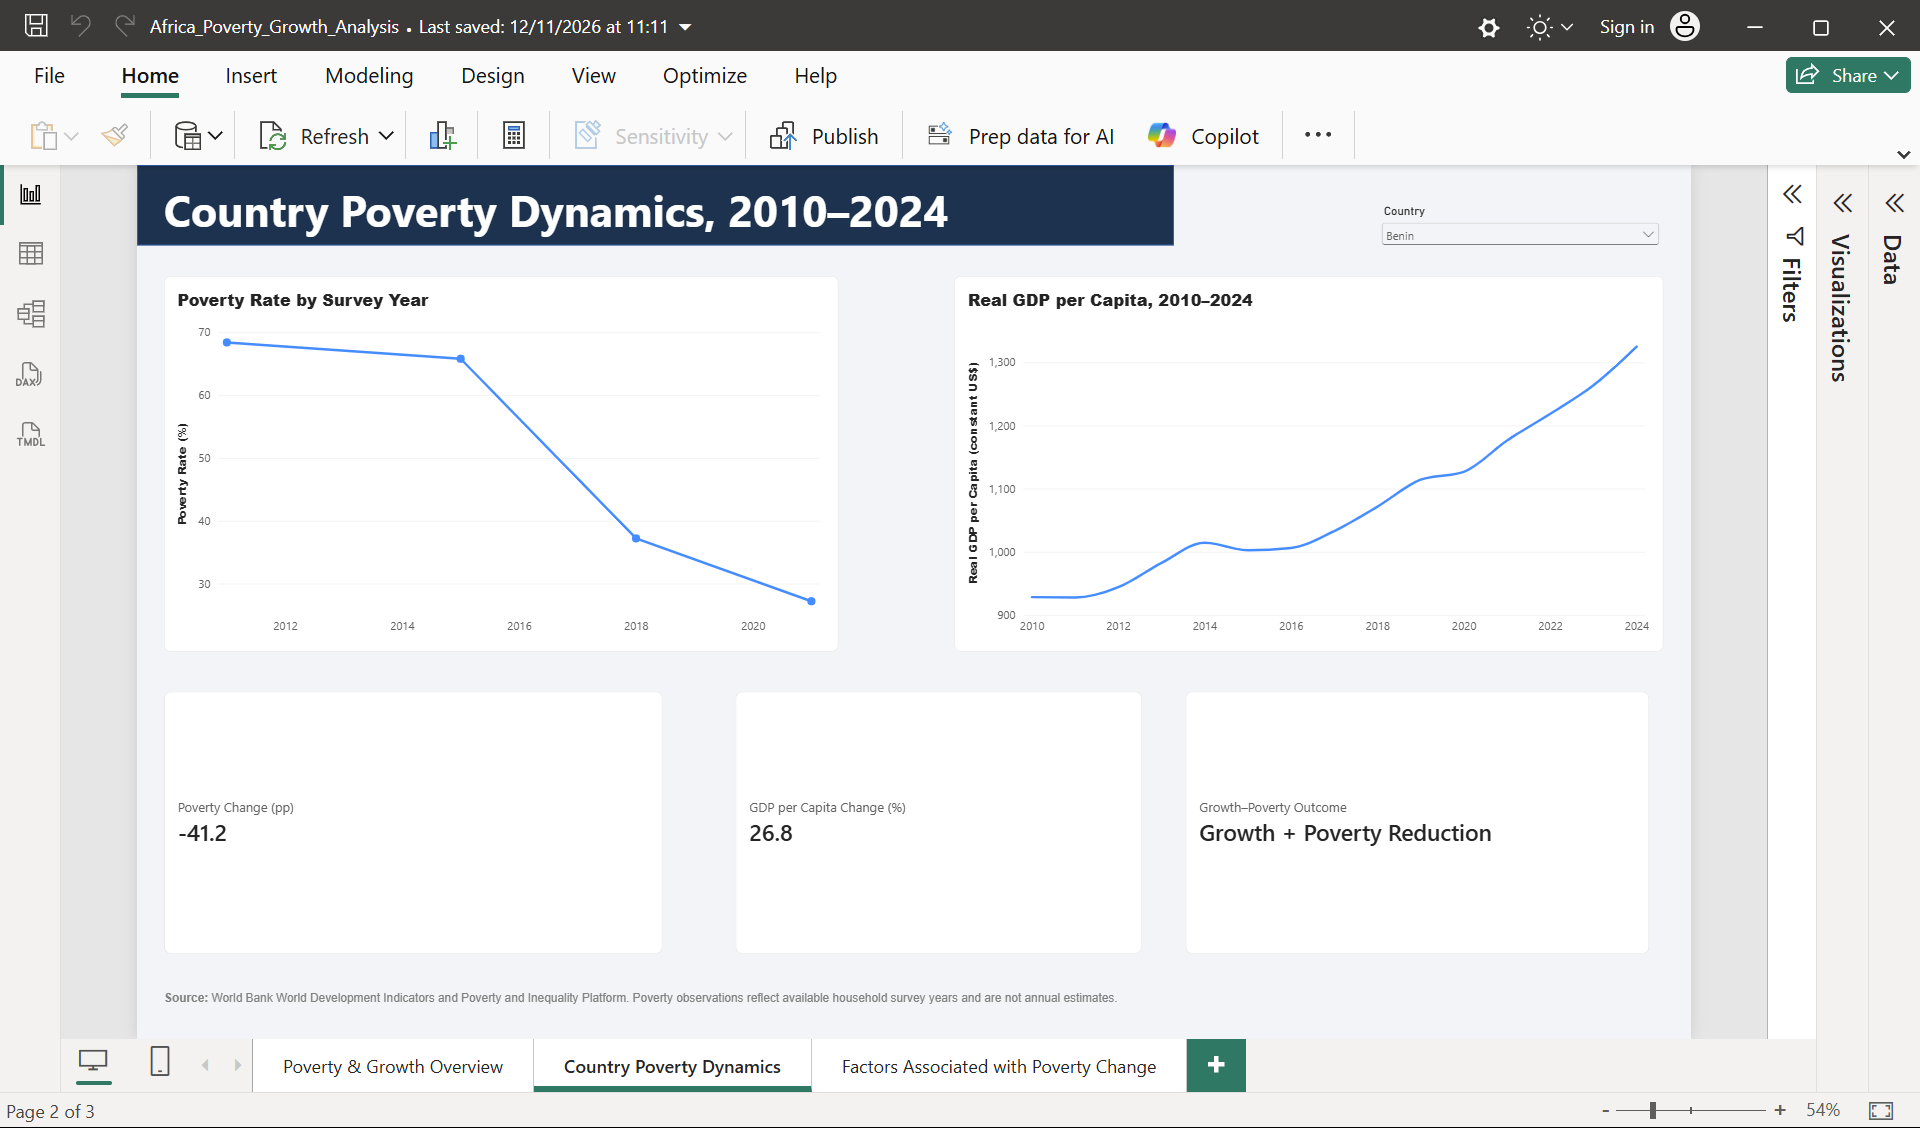

The dashboard page shown, as its layout file describes it:
{"tool":"powerbi","page":{"name":"Country Poverty Dynamics","canvas":[1920,1080],"ordinal":1},"visuals":[{"type":"shape","box":[0,0,1281.4,99.4],"z":0},{"type":"textbox","box":[32.4,0,1210.5,99.4],"z":1000},{"type":"lineChart","title":"Poverty Rate by Survey Year","fields":{"Category":["powerbi_country_year.year"],"Y":["Avg(powerbi_country_year.poverty_rate)"]},"box":[32.4,137.9,833.3,464.3],"z":2000},{"type":"slicer","fields":{"Values":["Country.country"]},"box":[1532.8,48.7,352.8,50.7],"z":3000},{"type":"lineChart","title":"Real GDP per Capita, 2010–2024","fields":{"Category":["powerbi_country_year.year"],"Y":["Avg(powerbi_country_year.real_gdp_per_capita)"]},"box":[1009.7,137.9,876.3,464.2],"z":4000},{"type":"cardVisual","fields":{"Data":["Avg(powerbi_growth_poverty.poverty_change_pp)"]},"box":[32.4,650.9,616.4,324.4],"z":5000},{"type":"cardVisual","fields":{"Data":["Avg(powerbi_growth_poverty.real_gdp_change_pct)"]},"box":[740.1,650.9,502.8,324.4],"z":6000},{"type":"cardVisual","fields":{"Data":["Min(powerbi_growth_poverty.growth_poverty_pattern)"]},"box":[1295.6,650.9,573.8,324.4],"z":7000},{"type":"textbox","box":[100,100,300,300],"z":8000},{"type":"textbox","box":[32.4,1019.9,1392.9,46.6],"z":9000}]}

Visuals, with their boxes on the page's 1920x1080 design canvas (x1, y1, x2, y2). These are canvas units, not pixel positions in the 1920x1128 screenshot, which may show the page scaled, cropped or inside an application window:
shape: region(0, 0, 1281, 99)
textbox: region(32, 0, 1243, 99)
"Poverty Rate by Survey Year" lineChart: region(32, 138, 866, 602)
slicer - Country.country: region(1533, 49, 1886, 99)
"Real GDP per Capita, 2010–2024" lineChart: region(1010, 138, 1886, 602)
cardVisual - Avg(powerbi_growth_poverty.poverty_change_pp): region(32, 651, 649, 975)
cardVisual - Avg(powerbi_growth_poverty.real_gdp_change_pct): region(740, 651, 1243, 975)
cardVisual - Min(powerbi_growth_poverty.growth_poverty_pattern): region(1296, 651, 1869, 975)
textbox: region(100, 100, 400, 400)
textbox: region(32, 1020, 1425, 1066)
